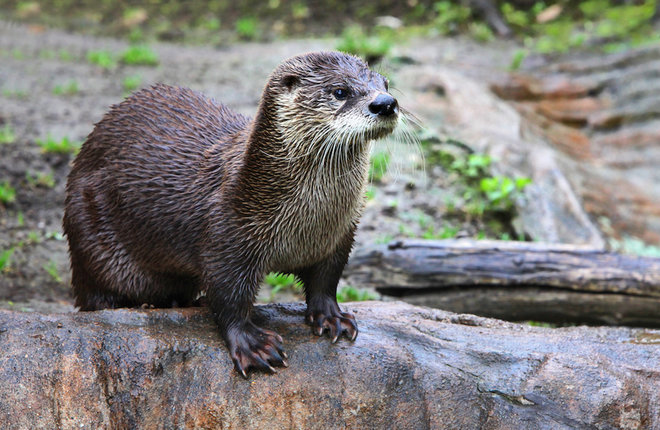otter: (69, 37, 404, 396)
